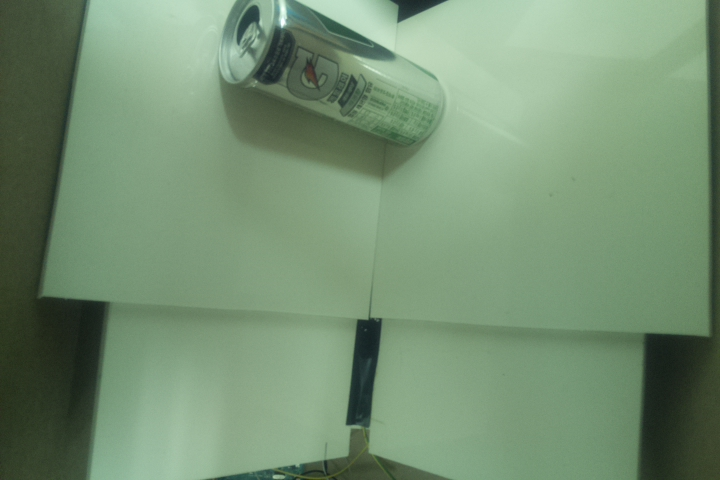can: (216, 1, 449, 150)
